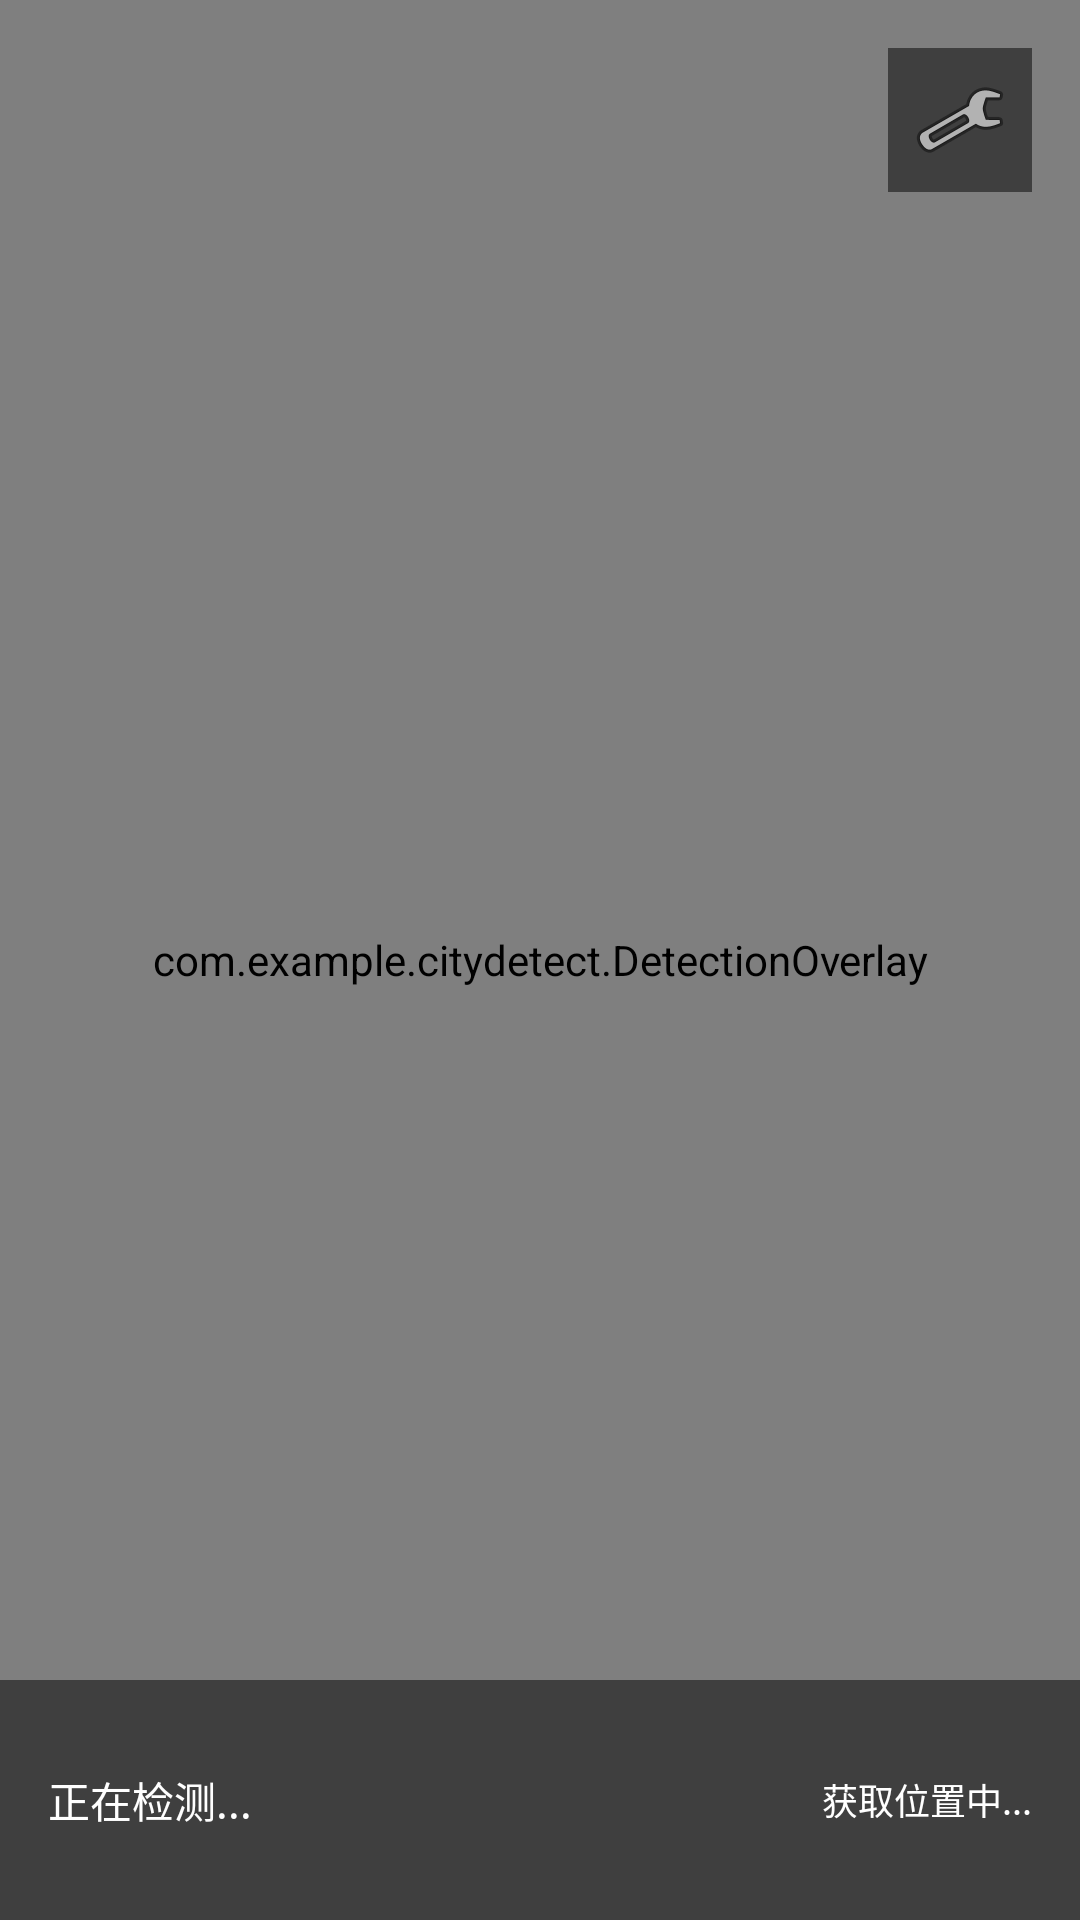

Locate icon controls on the screen. Image size 1080×1920, boxes as (x1, y1, x2, y2).
设置: (888, 48, 1032, 192)
